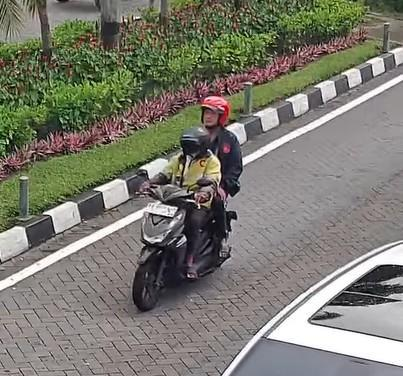Helmet: (201, 96, 229, 126), (180, 127, 208, 155)
Number Plate: (145, 202, 177, 217)
